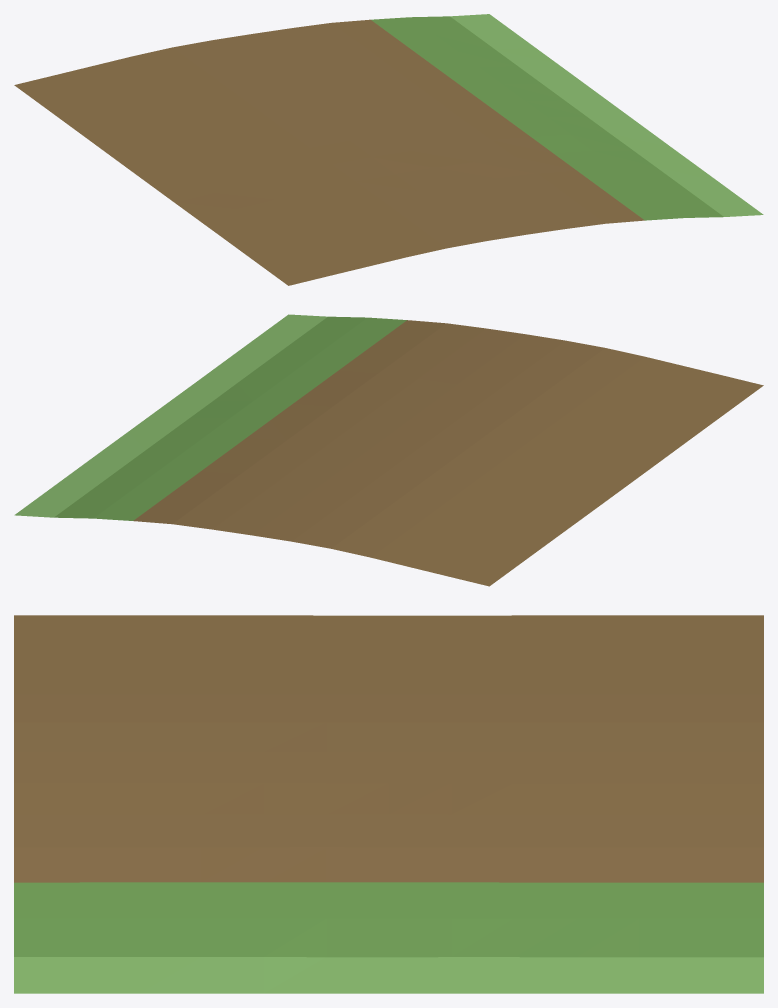
The model's file is chunk_-1_0.obj.
3 renders of one model, top to bottom at view 1: azimuth 30°, elevation 25°; view 2: azimuth 150°, elevation 25°; view 3: azimuth 270°, elevation 25°, orthographic. The views are drawn at different scales.
Parts seen in each view (by area): view 1: dirt, grass_a, grass_b; view 2: dirt, grass_a, grass_b; view 3: dirt, grass_a, grass_b.
Boxes of the visible parts, <box> form: dirt: <box>14,19,644,285</box>; grass_a: <box>371,16,723,220</box>; grass_b: <box>450,14,763,216</box>; dirt: <box>133,320,763,586</box>; grass_a: <box>54,316,406,520</box>; grass_b: <box>14,314,327,517</box>; dirt: <box>14,615,763,882</box>; grass_a: <box>14,882,763,957</box>; grass_b: <box>14,957,763,993</box>.
Bounding box in the file's own units: 16 × 1.45 × 16.
